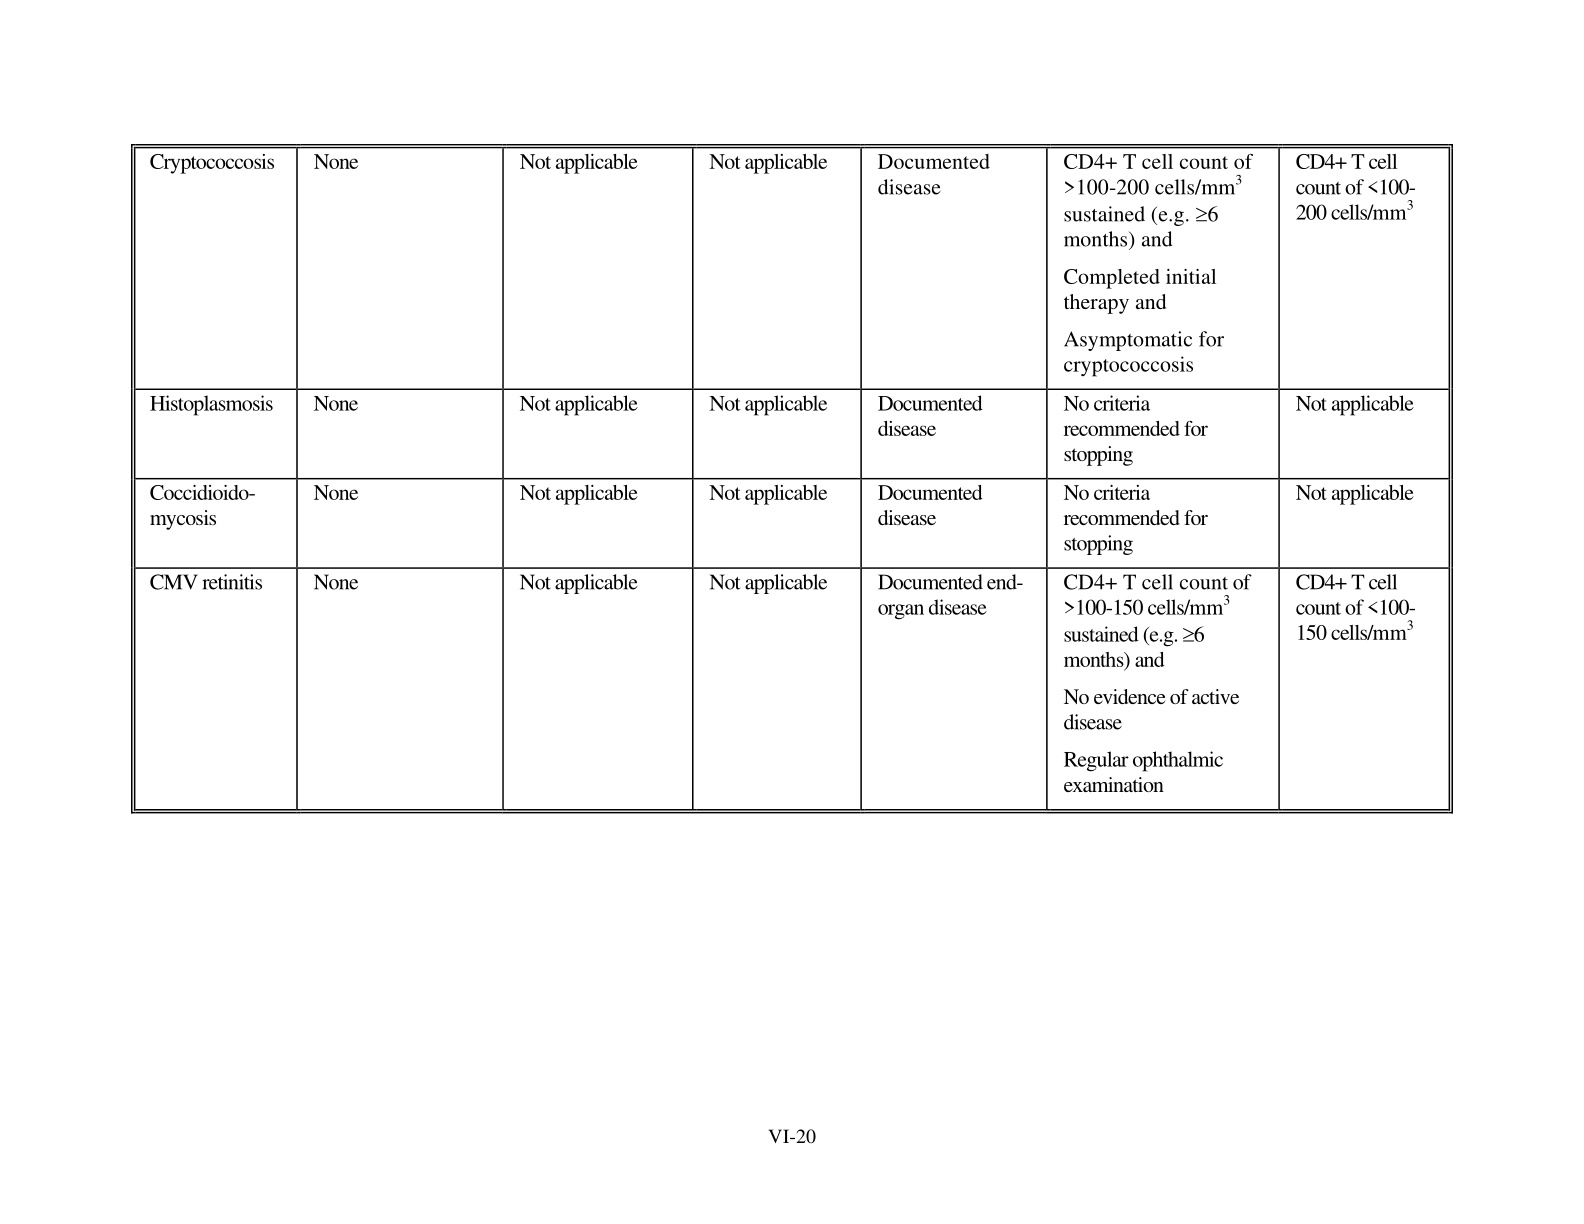full_lined: (130, 143, 1454, 815)
